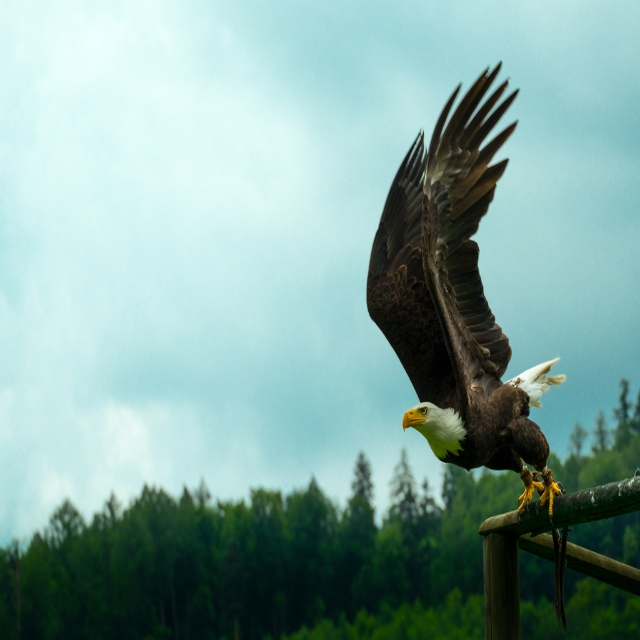Eagle: (366, 57, 566, 519)
